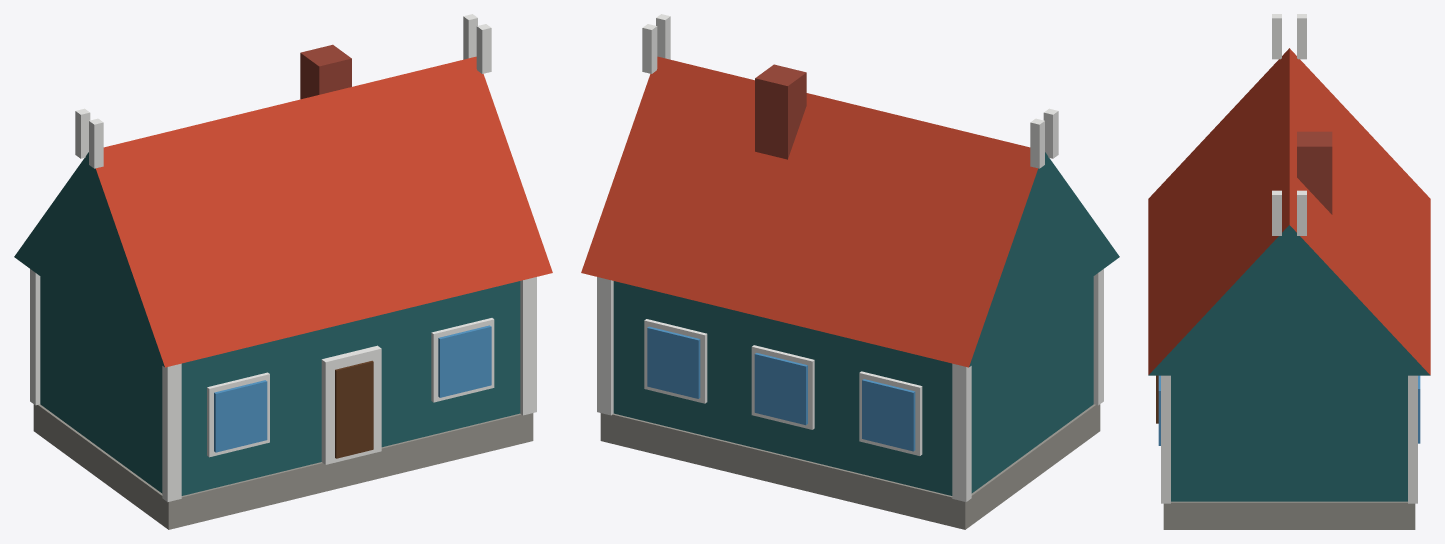
Rendered from 69_nida_wood_3.obj.
The picture shows the model from 3 angles, left to right: view 1: azimuth 30°, elevation 25°; view 2: azimuth 150°, elevation 25°; view 3: azimuth 270°, elevation 25°; orthographic projection. The views are drawn at different scales.
Parts seen in each view (by area): view 1: 69_nida_wood_3; view 2: 69_nida_wood_3; view 3: 69_nida_wood_3.
Part boxes in pixels (<box>): 69_nida_wood_3: <box>14,14,552,529</box>; 69_nida_wood_3: <box>581,14,1119,529</box>; 69_nida_wood_3: <box>1148,14,1430,529</box>.
Size of the model in its own units: 1.7 by 1.5 by 1.12.
